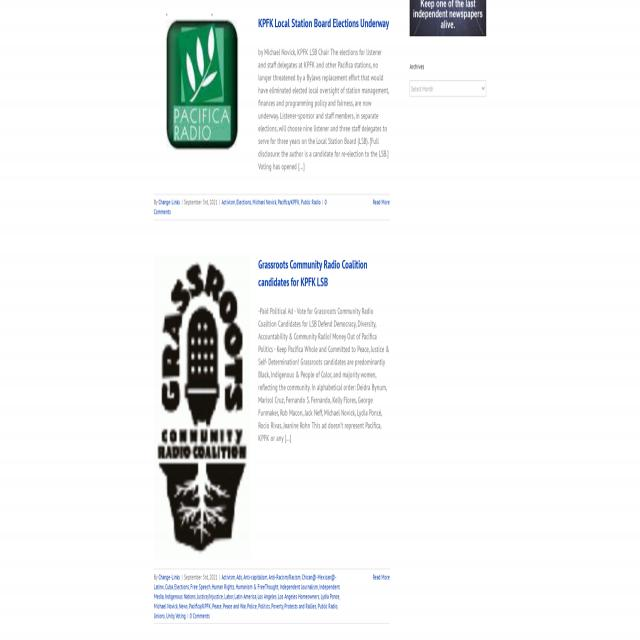button: (154, 251, 250, 558), (165, 20, 239, 150), (410, 0, 486, 36)
field: (410, 80, 486, 96)
